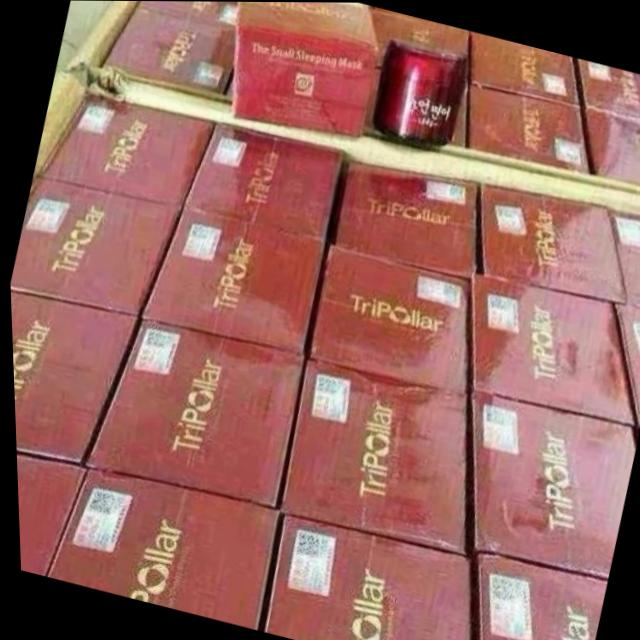box: (83, 318, 303, 506), (44, 465, 278, 629), (279, 359, 466, 551), (466, 394, 630, 577), (137, 206, 325, 353), (258, 514, 463, 640), (8, 176, 181, 315), (469, 273, 629, 423), (308, 245, 467, 395), (8, 291, 137, 465), (38, 94, 215, 207), (231, 1, 376, 138), (181, 121, 342, 240), (479, 181, 623, 302), (330, 161, 473, 276), (101, 5, 236, 94), (469, 555, 601, 640), (467, 83, 588, 174), (13, 453, 85, 574), (469, 31, 577, 107), (368, 8, 469, 66), (584, 106, 640, 184), (577, 58, 640, 117), (616, 303, 640, 431), (611, 211, 640, 306), (137, 1, 238, 26)
